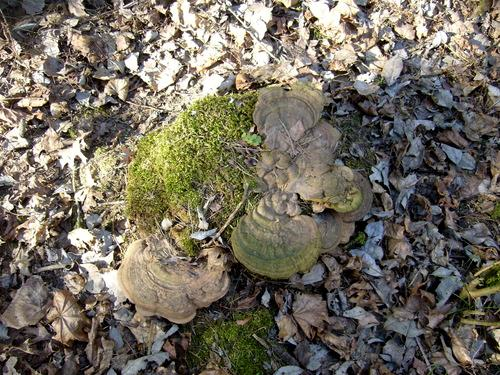Ganoderma - Fruit Body: (255, 83, 374, 218), (117, 238, 230, 322), (232, 221, 322, 278)
